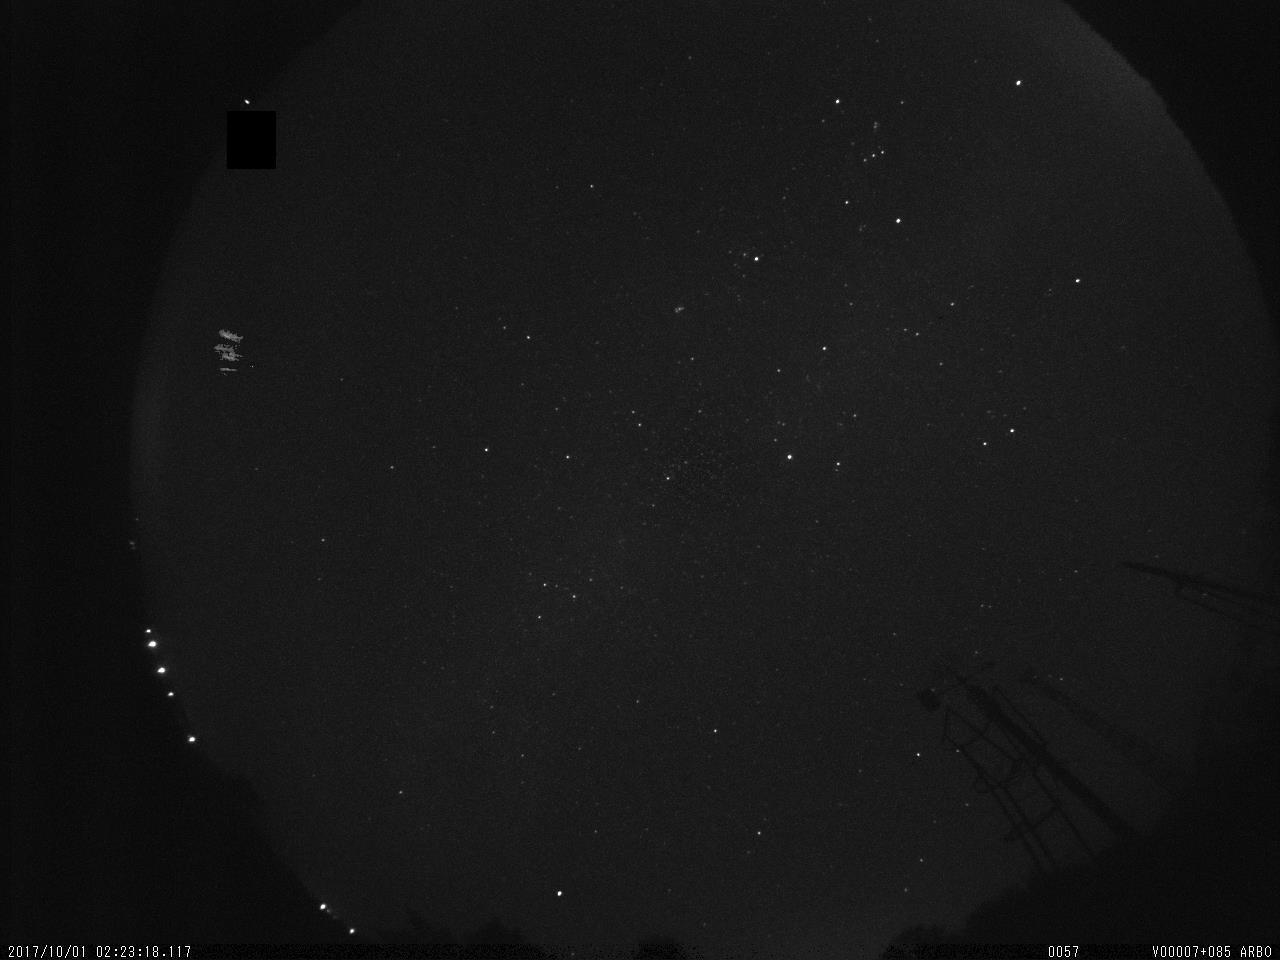TLE: (195, 312, 261, 392)
